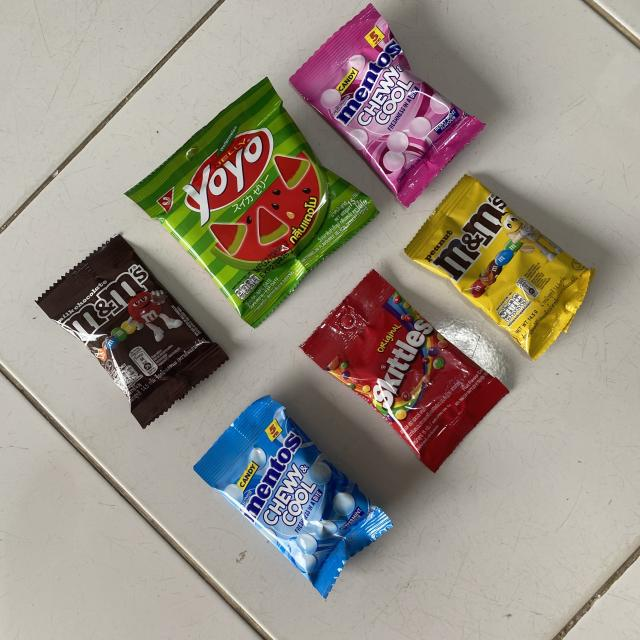plastik: (126, 78, 378, 326), (301, 270, 508, 471), (194, 396, 391, 598), (290, 4, 484, 206), (36, 235, 228, 428), (405, 175, 595, 360)
